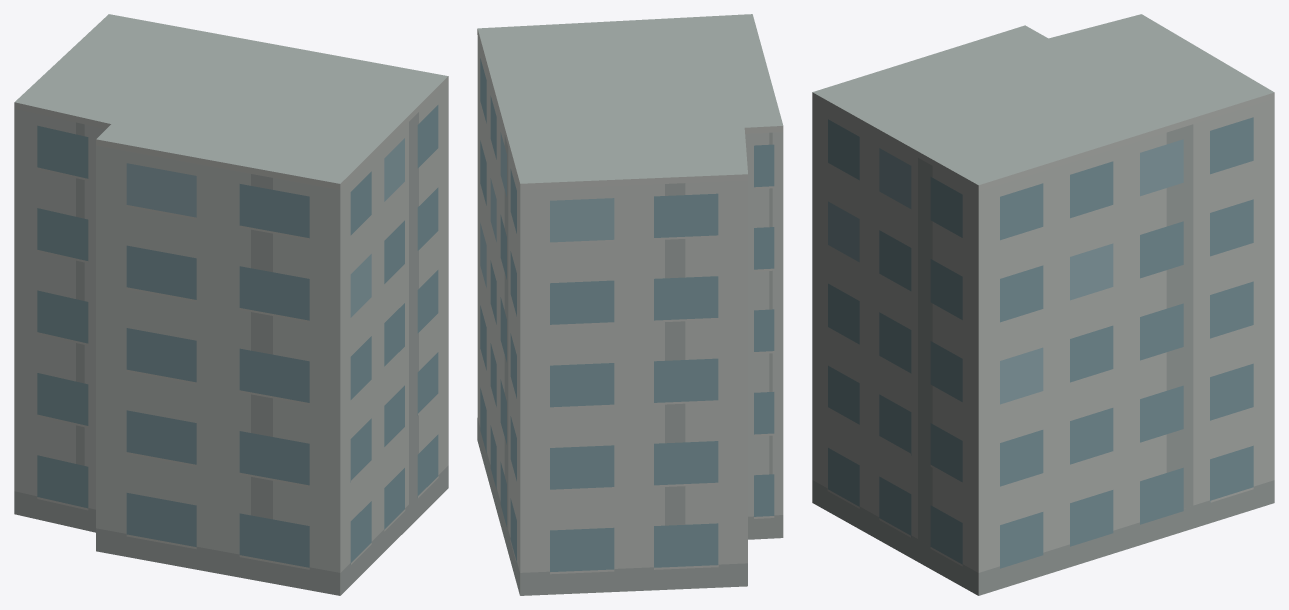
The model's file is survey-upis-32780491.glb.
3 renders of one model, left to right at view 1: azimuth 30°, elevation 25°; view 2: azimuth 150°, elevation 25°; view 3: azimuth 270°, elevation 25°, orthographic.
Parts seen in each view (by area): view 1: survey-upis-32780491.tmp; view 2: survey-upis-32780491.tmp; view 3: survey-upis-32780491.tmp.
Boxes of the visible parts, bbox=[...] form: survey-upis-32780491.tmp: bbox=[14, 14, 448, 595]; survey-upis-32780491.tmp: bbox=[477, 14, 783, 595]; survey-upis-32780491.tmp: bbox=[812, 14, 1274, 595].
Size of the model in its own units: 14.33 by 16 by 16.34.
